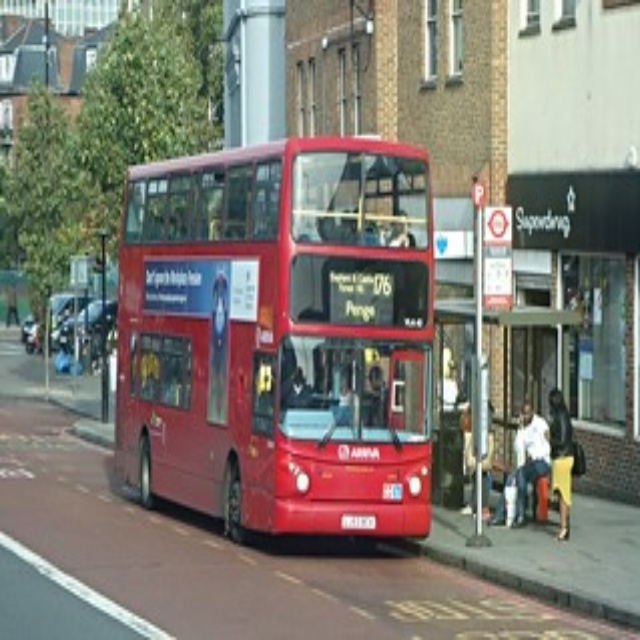Bus: (110, 132, 435, 544)
